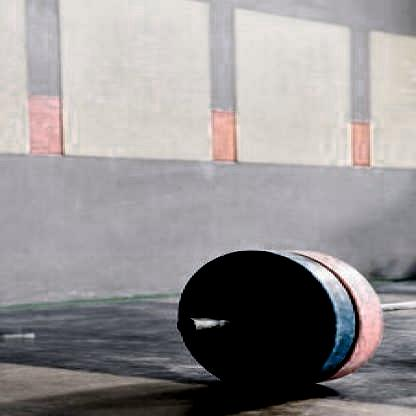Barbell: (172, 308, 199, 346)
